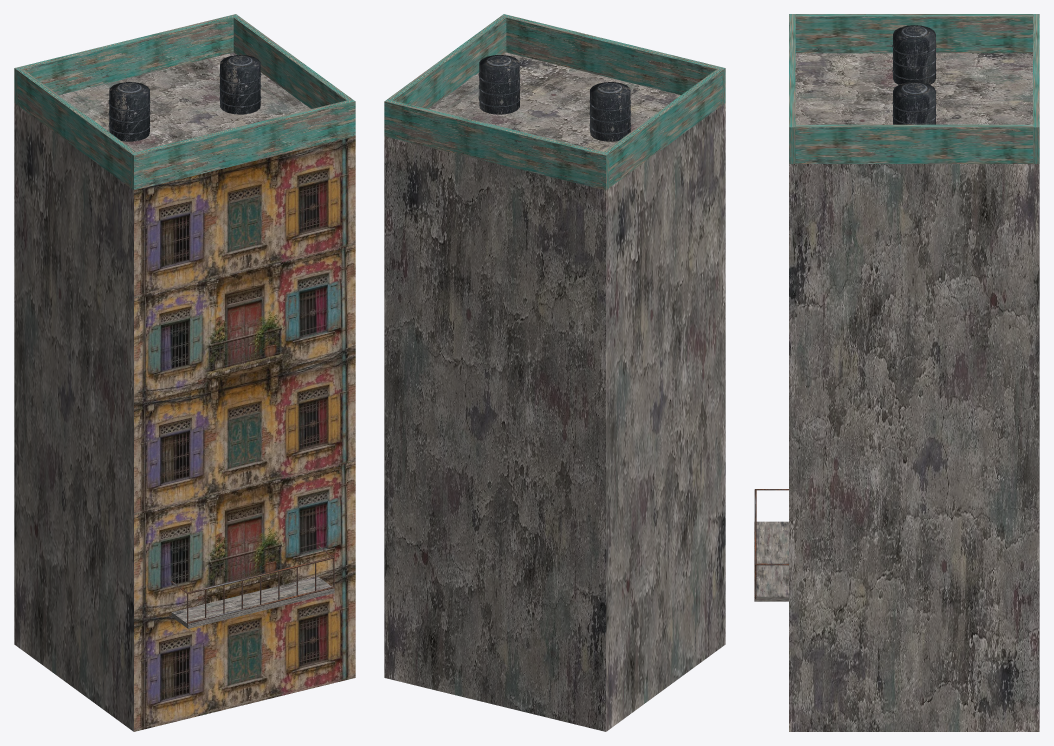
Rendered from bld_oldhaka_block_3.glb.
3 renders of one model, left to right at view 1: azimuth 30°, elevation 25°; view 2: azimuth 150°, elevation 25°; view 3: azimuth 270°, elevation 25°, orthographic. The views are drawn at different scales.
Parts seen in each view (by area): view 1: bld_oldhaka_block_3; view 2: bld_oldhaka_block_3; view 3: bld_oldhaka_block_3.
Part boxes in pixels (x1,y1,x2,y2): bld_oldhaka_block_3: (14,14,355,731); bld_oldhaka_block_3: (384,14,725,731); bld_oldhaka_block_3: (754,14,1039,731).
Size of the model in its own units: 6 by 15.2 by 6.38.
5 materials, 5 textured.
